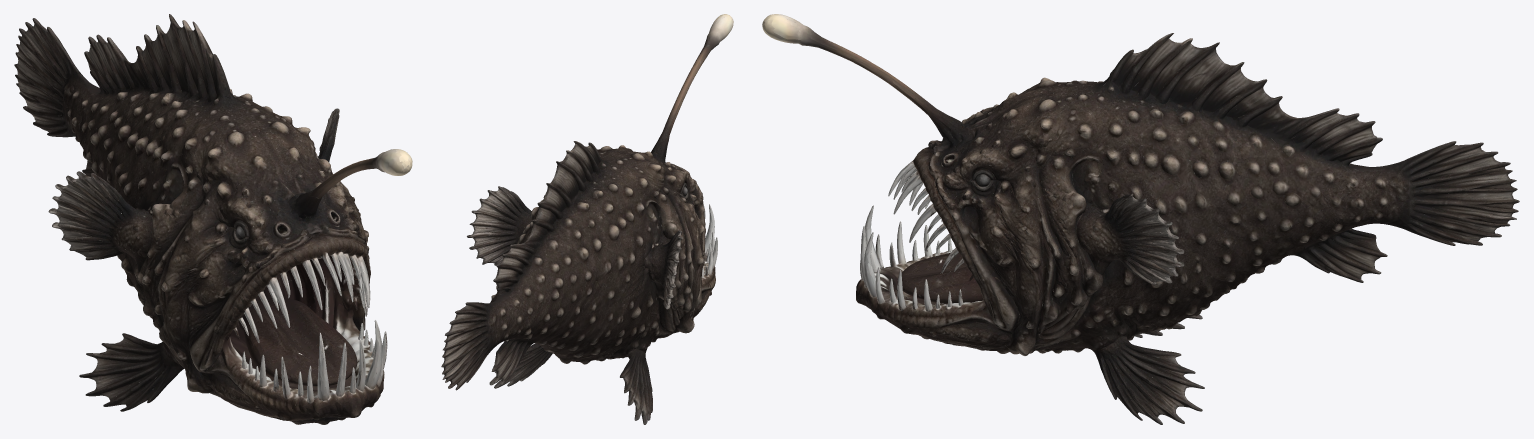
Rendered from angler.glb.
3 renders of one model, left to right at view 1: azimuth 30°, elevation 25°; view 2: azimuth 150°, elevation 25°; view 3: azimuth 270°, elevation 25°, orthographic. The views are drawn at different scales.
Parts seen in each view (by area): view 1: Mesh_0; view 2: Mesh_0; view 3: Mesh_0.
Boxes of the visible parts, left/top/right/bottom form: Mesh_0: left=14, top=14, right=412, bottom=424; Mesh_0: left=441, top=14, right=733, bottom=424; Mesh_0: left=762, top=14, right=1519, bottom=424.
Size of the model in its own units: 0.79 by 1.01 by 1.9.
1 material, 1 textured.
